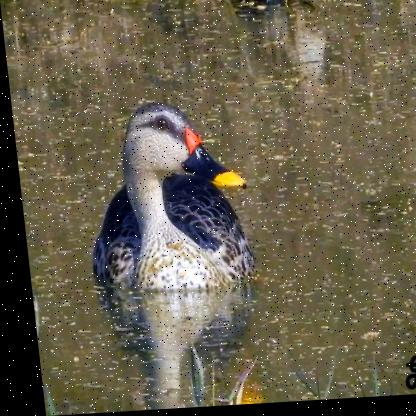Burung: (73, 100, 252, 296)
